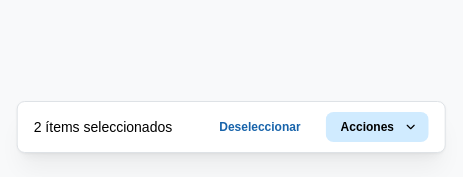
SelectionBanner › con ambos handlers, el menú muestra los dos ítems y nunca "Editar seleccionados"
Click the button "Acciones". click: point(377, 127)
box: [326,112,428,142]
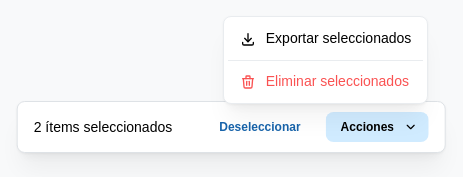
Now the text "Exportar seleccionados" is shown, box [266,28,411,49]
Now the text "Eliminar seleccionados" is shown, box [266,71,411,92]
